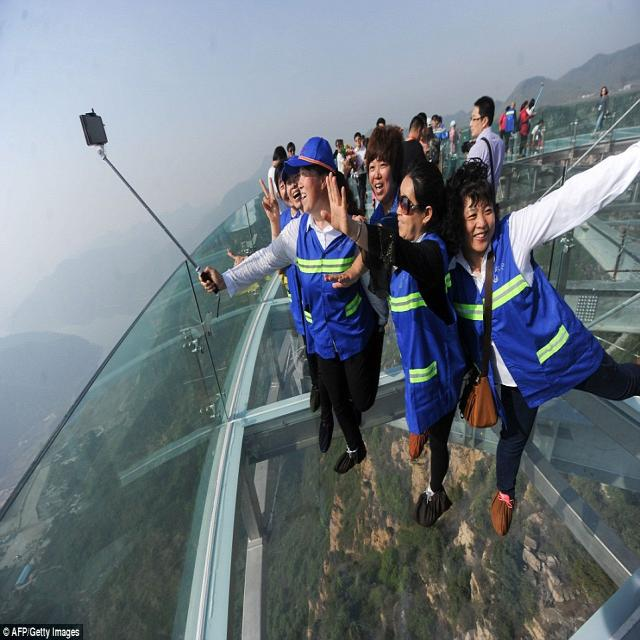body: (436, 125, 639, 542), (196, 134, 390, 474), (316, 156, 472, 531), (259, 153, 335, 459), (323, 123, 408, 298), (268, 154, 316, 395), (464, 95, 507, 200), (400, 114, 430, 180), (402, 114, 428, 179), (267, 145, 290, 216), (352, 131, 368, 219), (352, 131, 368, 218), (587, 84, 611, 141), (289, 325, 309, 379), (416, 111, 436, 163), (421, 117, 439, 166), (448, 119, 463, 176), (523, 97, 536, 155), (505, 100, 518, 156), (518, 98, 530, 157), (527, 117, 545, 156), (224, 246, 251, 270), (430, 113, 450, 140), (498, 104, 512, 141), (335, 137, 346, 175), (536, 123, 544, 154), (285, 140, 297, 159), (360, 132, 372, 149), (333, 137, 338, 167), (374, 117, 386, 129), (437, 115, 443, 124), (372, 195, 375, 211), (365, 192, 367, 205)
